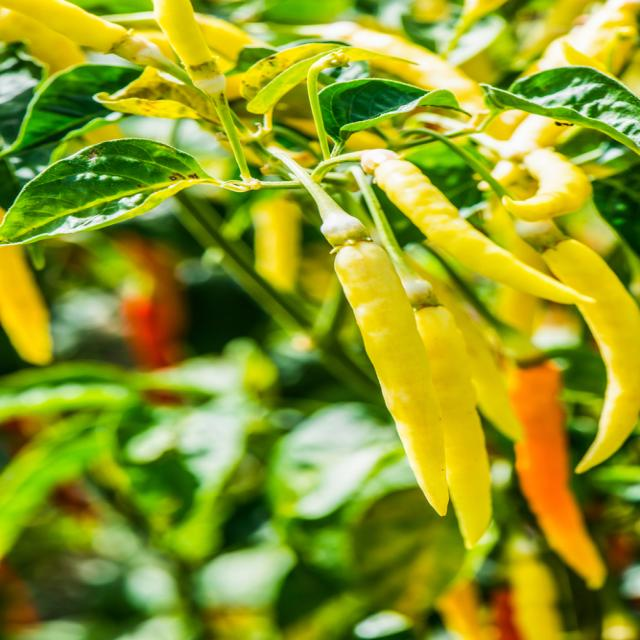Unripe: (272, 150, 450, 514), (360, 149, 594, 304), (542, 239, 639, 472), (414, 305, 491, 548), (296, 21, 484, 112), (432, 280, 523, 441), (534, 0, 638, 74), (502, 149, 592, 221), (0, 0, 127, 51), (0, 9, 86, 74), (155, 0, 214, 66), (195, 14, 264, 62)
